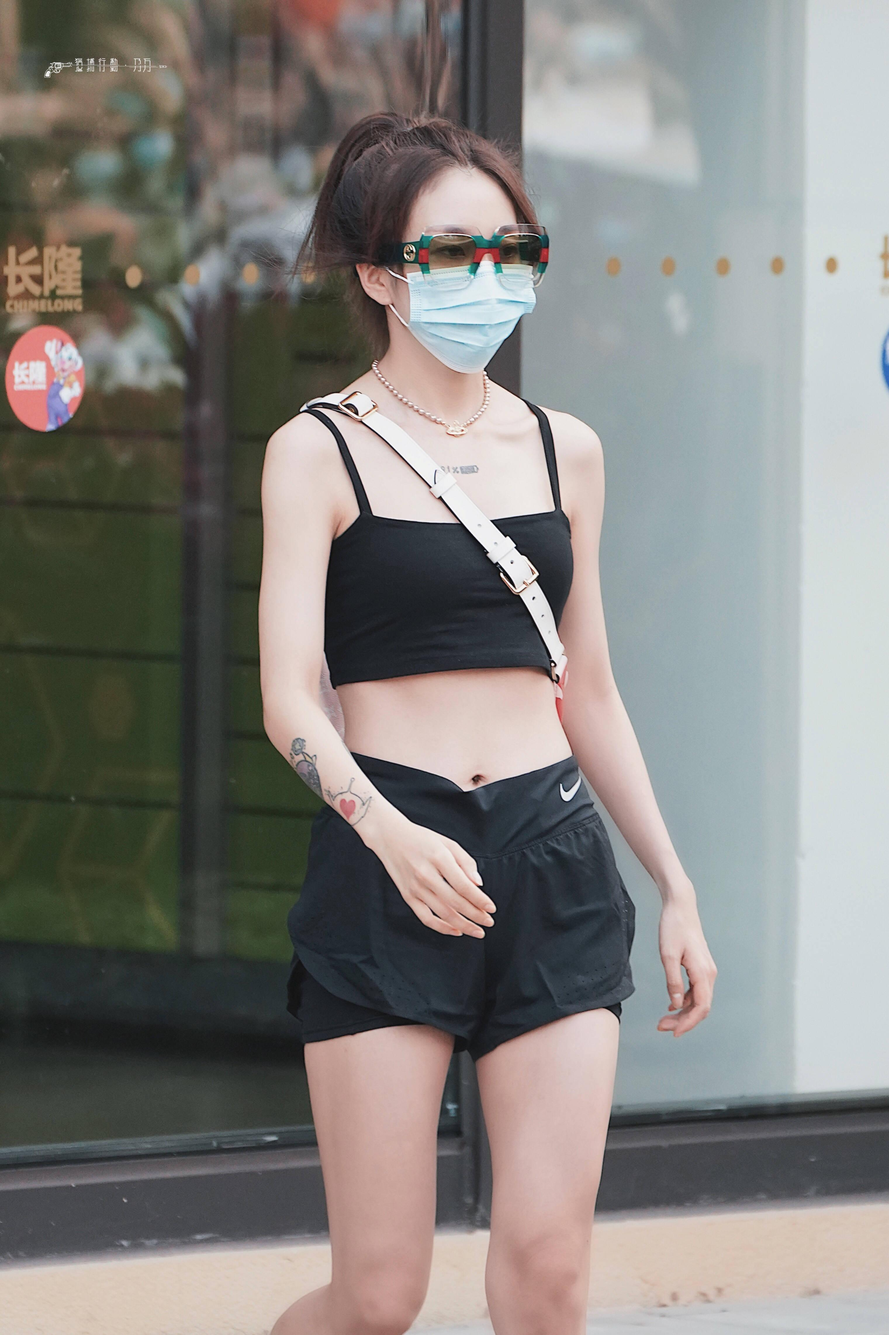OK: (401, 199, 537, 371)
